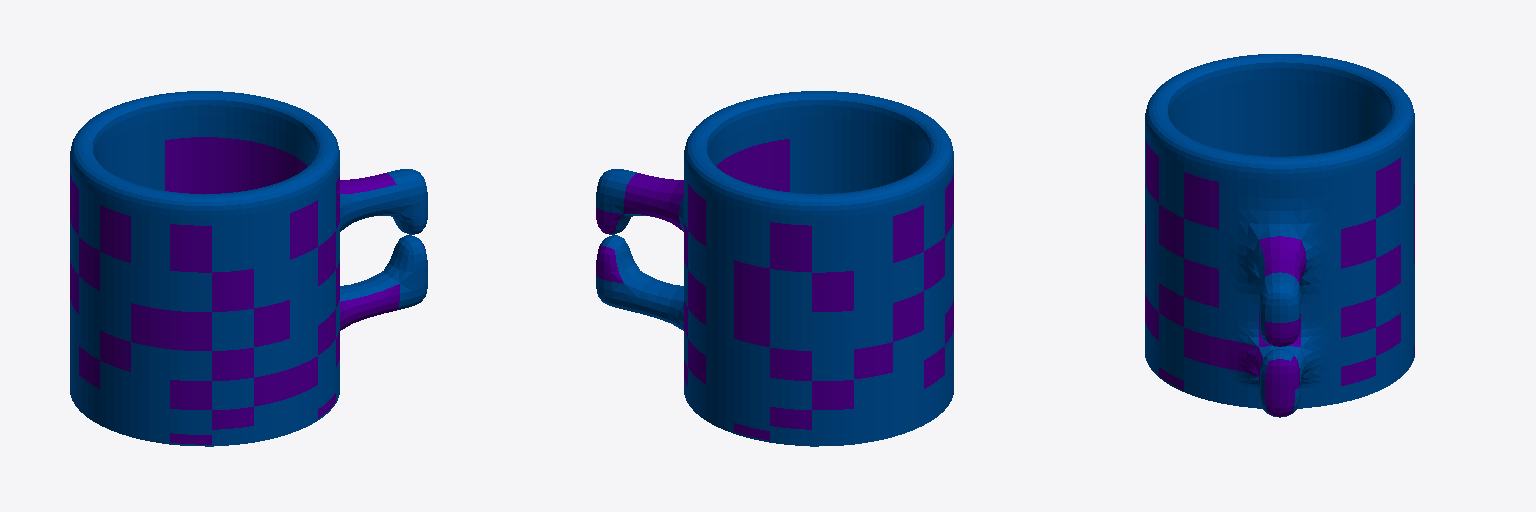
File: mark_cup.obj
The picture shows the model from 3 angles: view 1: azimuth 30°, elevation 25°; view 2: azimuth 150°, elevation 25°; view 3: azimuth 270°, elevation 25°; orthographic projection.
Parts seen in each view (by area): view 1: Cylinder_Cylinder.001; view 2: Cylinder_Cylinder.001; view 3: Cylinder_Cylinder.001.
Part boxes in pixels (x1,y1,x2,y2): Cylinder_Cylinder.001: (70, 91, 427, 446); Cylinder_Cylinder.001: (596, 91, 953, 446); Cylinder_Cylinder.001: (1145, 54, 1414, 417).
Bounding box in the file's own units: 2.83 × 2 × 1.97.